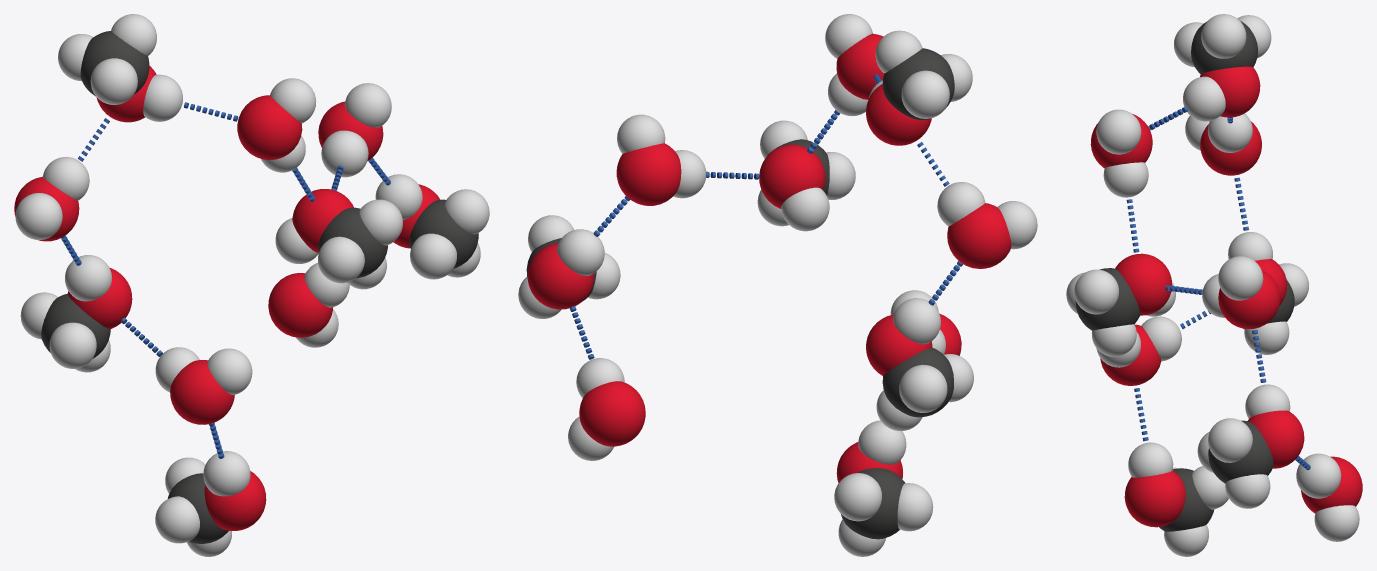
Rendered from bmodel.gltf.
3 views of the same model, side by side, from view 1: azimuth 30°, elevation 25°; view 2: azimuth 150°, elevation 25°; view 3: azimuth 270°, elevation 25° (orthographic). The views are drawn at different scales.
Visible parts, largest first — view 1: bm, bj3, bj2, bj1, bj4, bs2, bs3, bs4, bs1; view 2: bm, bj1, bj2, bj3, bj4, bs1, bs3, bs4, bs2; view 3: bm, bj4, bj2, bj3, bs4, bs3, bj1, bs1, bs2.
Part boxes in pixels (x1,y1,x2,y2): bm: [58, 14, 316, 172]; bj3: [275, 189, 402, 289]; bj2: [155, 451, 266, 556]; bj1: [20, 255, 132, 372]; bj4: [375, 174, 489, 279]; bs2: [155, 347, 252, 424]; bs3: [318, 83, 391, 177]; bs4: [268, 263, 349, 347]; bs1: [14, 157, 89, 241]; bm: [825, 14, 972, 145]; bj1: [866, 298, 973, 431]; bj2: [834, 420, 933, 556]; bj3: [757, 120, 855, 231]; bj4: [518, 215, 620, 318]; bs1: [937, 182, 1037, 268]; bs3: [616, 114, 706, 205]; bs4: [568, 358, 645, 460]; bs2: [890, 290, 961, 355]; bm: [1090, 14, 1271, 197]; bj4: [1197, 384, 1304, 508]; bj2: [1124, 442, 1228, 556]; bj3: [1066, 253, 1175, 356]; bs4: [1296, 453, 1362, 541]; bs3: [1202, 256, 1279, 328]; bj1: [1228, 232, 1308, 354]; bs1: [1185, 113, 1261, 175]; bs2: [1096, 316, 1181, 385].
Size of the model in its own units: 93.69 by 100 by 52.51.
Materials: 4 (4 with a texture image).
